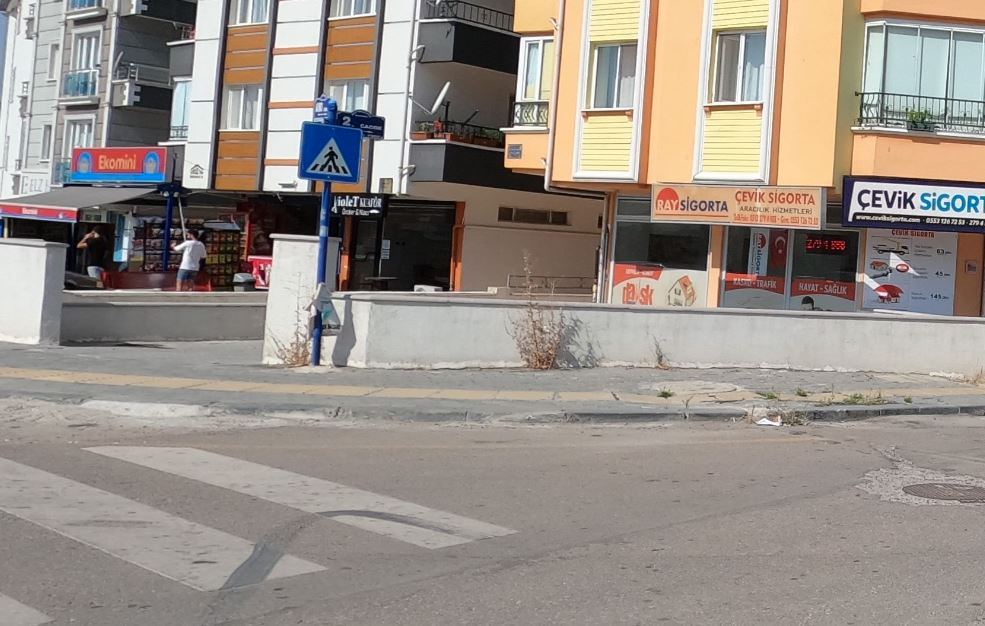Yaya Gecidi: (306, 125, 359, 183)
